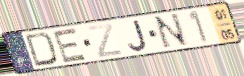1: (188, 9, 211, 44)
D: (24, 31, 60, 69)
E: (51, 26, 90, 65)
J: (126, 19, 149, 53)
N: (151, 12, 191, 51)
Z: (86, 22, 124, 59)
